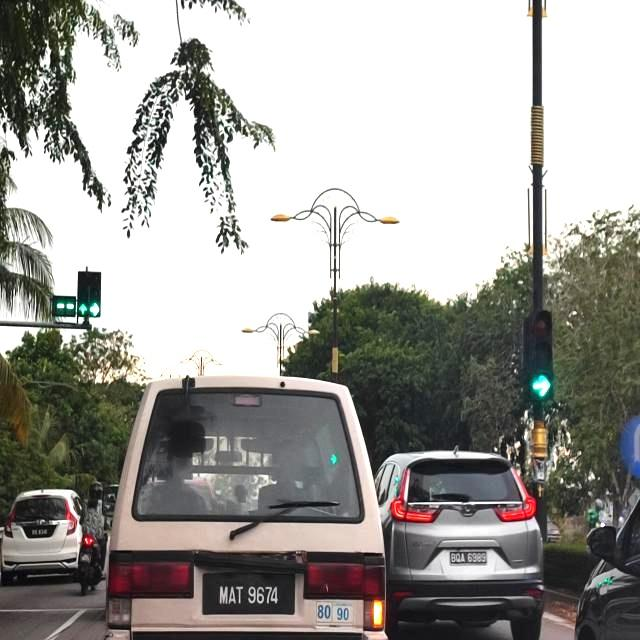Green: (527, 311, 554, 405), (76, 272, 90, 316), (89, 272, 102, 318)
